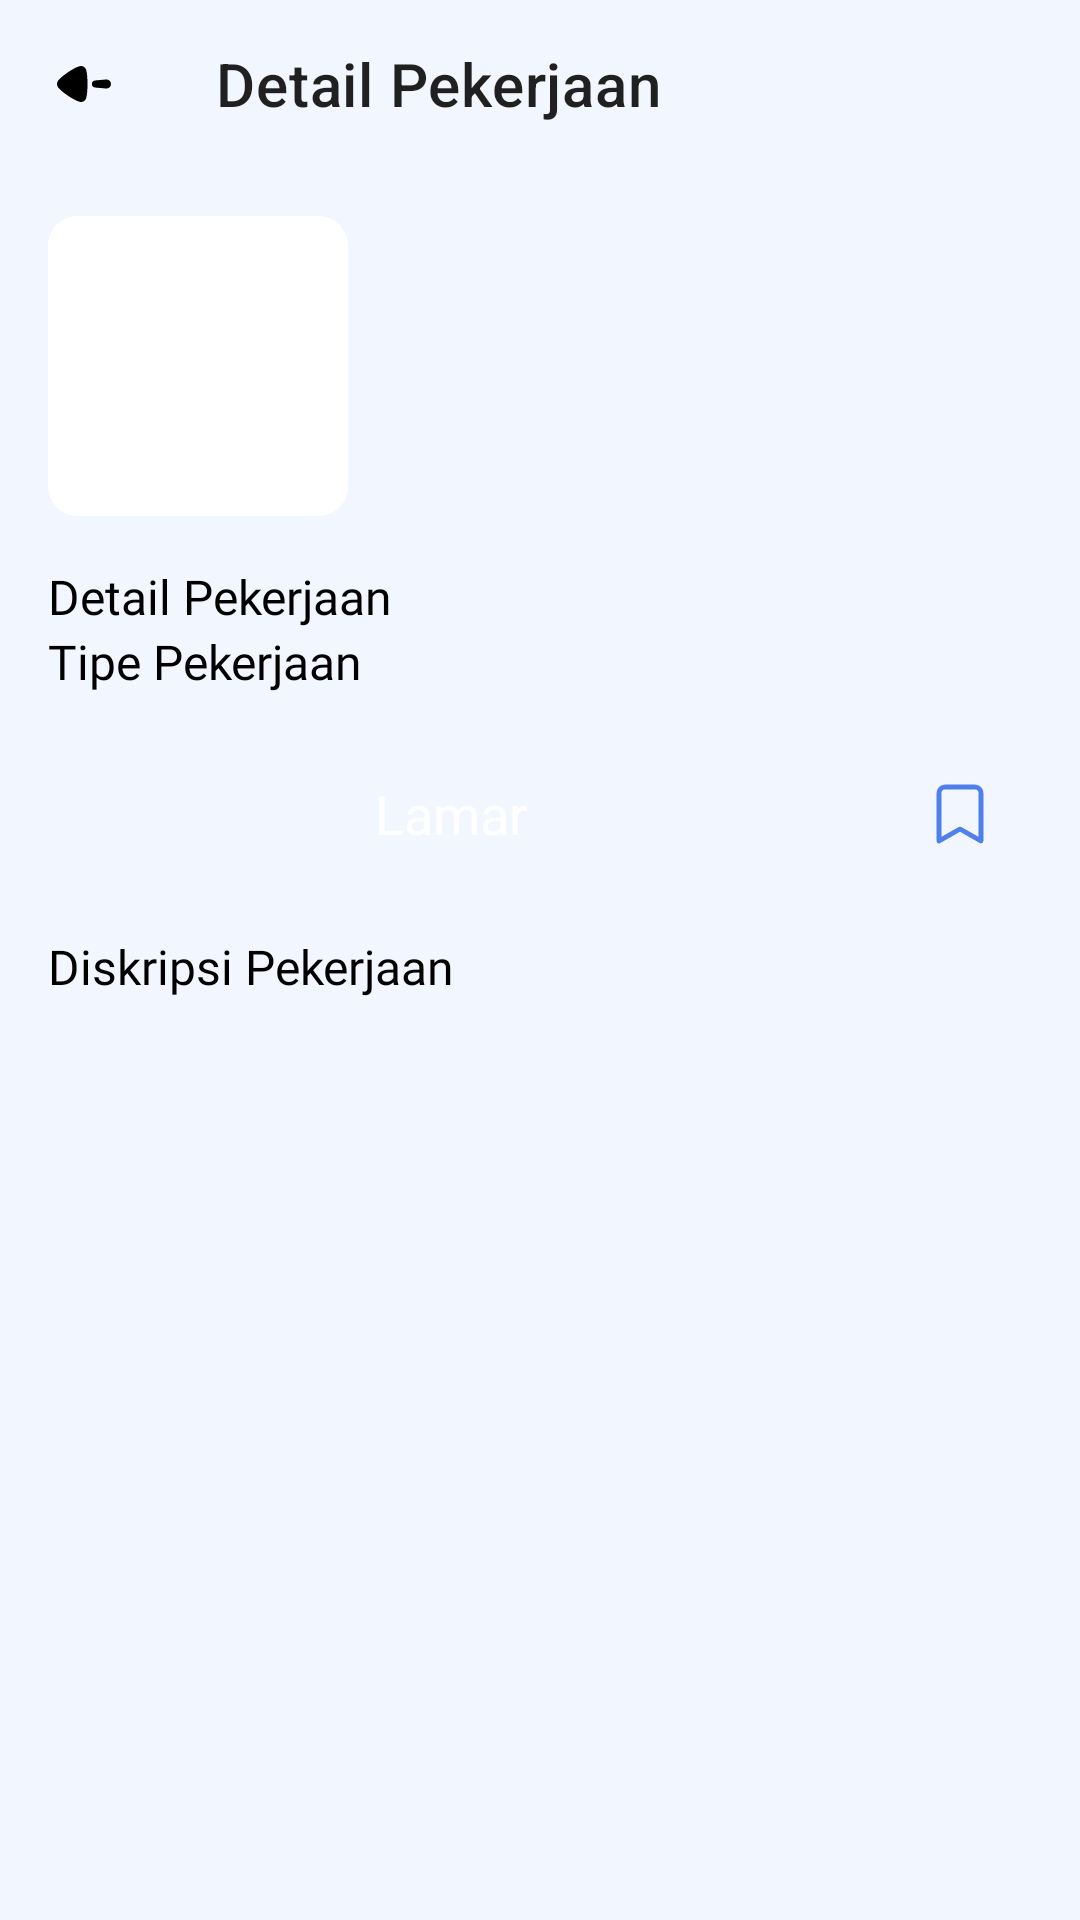

Named icons in this screenshot (1080 × 1920) and their bounding boxes, (left=x1, top=y1, right=x2, bottom=y2):
bookmark unfilled: (left=936, top=784, right=984, bottom=844)
